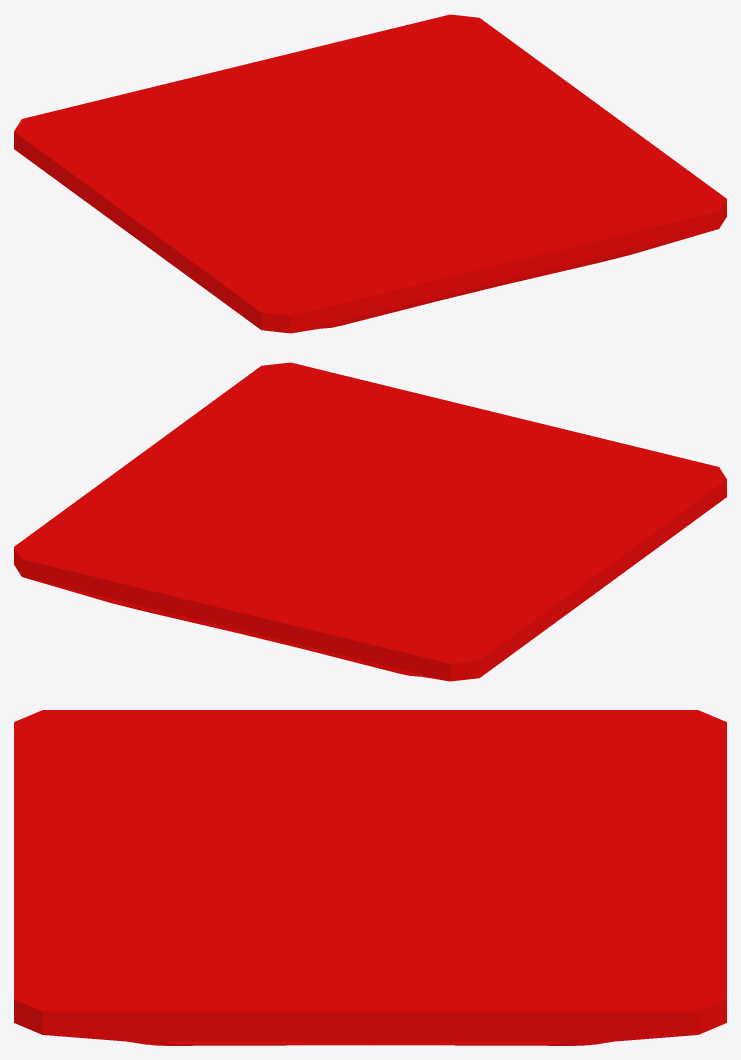
The model's file is SM__cassette_air_conditioner_01_b.glb.
3 views of the same model, one above another, from view 1: azimuth 30°, elevation 25°; view 2: azimuth 150°, elevation 25°; view 3: azimuth 270°, elevation 25° (orthographic). The views are drawn at different scales.
Parts seen in each view (by area): view 1: SM__cassette_air_conditioner_01_b_LOD0; view 2: SM__cassette_air_conditioner_01_b_LOD0; view 3: SM__cassette_air_conditioner_01_b_LOD0.
Boxes of the visible parts, x1,y1,x2,y2 form: SM__cassette_air_conditioner_01_b_LOD0: (14, 14, 726, 333); SM__cassette_air_conditioner_01_b_LOD0: (14, 362, 726, 681); SM__cassette_air_conditioner_01_b_LOD0: (14, 710, 726, 1045).
Size of what is drawn, in the model's own units: 0.6469 by 0.0767 by 0.6469.
